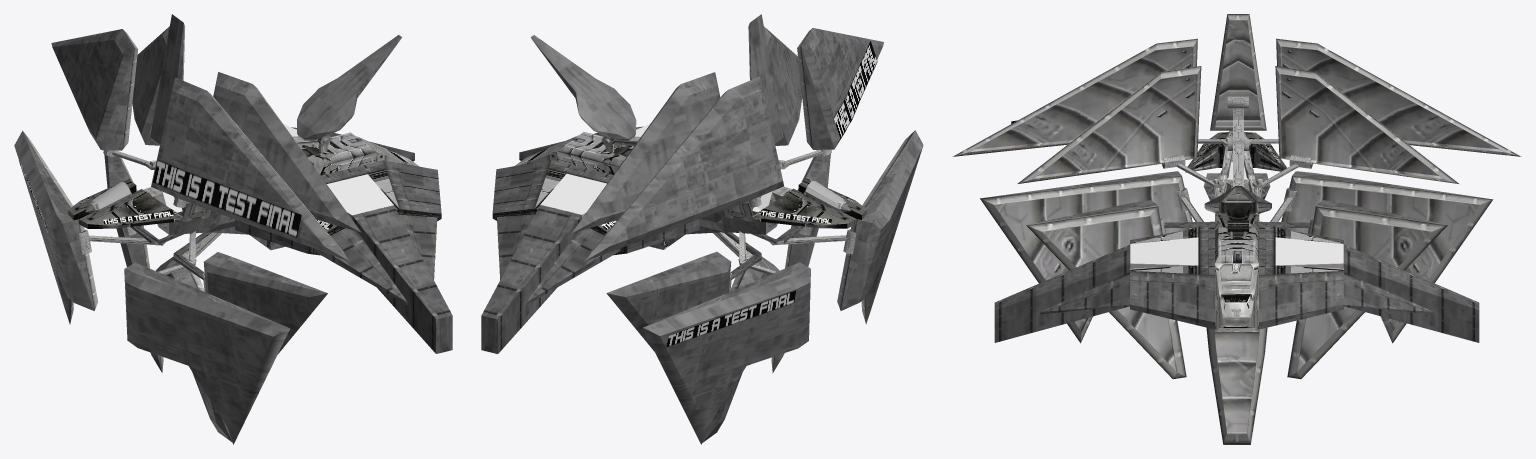
File: OriginalPS.obj
The picture shows the model from 3 angles, left to right: view 1: azimuth 30°, elevation 25°; view 2: azimuth 150°, elevation 25°; view 3: azimuth 270°, elevation 25°; orthographic projection. The views are drawn at different scales.
Visible parts, largest first — view 1: SPW330, WING_A_BOT_R0, WING_A_TOP_L0, WING_A_TOP_R0, SPH330, WING_TOP_LEFT0, WING_A_BOT_L0, WING_BOT_LEFT0, TOP_MID020, NAMEDECAL0.006, WING_TOP_RIGHT0, TOP_MID010 (+7 smaller); view 2: SPW330, WING_A_TOP_R0, WING_A_BOT_L0, SPH330, WING_TOP_RIGHT0, WING_A_BOT_R0, WING_A_TOP_L0, WING_BOT_RIGHT0, TOP_MID020, WING_TOP_LEFT0, TOP_MID010, DECAL020.005 (+8 smaller); view 3: SPW330, WING_TOP_RIGHT0, WING_TOP_LEFT0, WING_A_BOT_R0, WING_A_BOT_L0, WING_A_TOP_L0, WING_BOT_RIGHT0, WING_BOT_LEFT0, WING_A_TOP_R0, SPH330, BOT_MID_PLATE0, TOP_MID010 (+5 smaller).
Part boxes in pixels (bbox=[...]): SPW330: bbox=[235, 127, 452, 353]; WING_A_BOT_R0: bbox=[124, 262, 290, 444]; WING_A_TOP_L0: bbox=[151, 77, 350, 261]; WING_A_TOP_R0: bbox=[51, 29, 137, 156]; SPH330: bbox=[68, 132, 419, 250]; WING_TOP_LEFT0: bbox=[213, 72, 361, 232]; WING_A_BOT_L0: bbox=[14, 130, 97, 324]; WING_BOT_LEFT0: bbox=[202, 252, 327, 412]; TOP_MID020: bbox=[297, 35, 401, 140]; NAMEDECAL0.006: bbox=[153, 160, 301, 237]; WING_TOP_RIGHT0: bbox=[132, 26, 169, 145]; TOP_MID010: bbox=[150, 14, 185, 144]; SPW330: bbox=[481, 126, 699, 353]; WING_A_TOP_R0: bbox=[584, 76, 783, 261]; WING_A_BOT_L0: bbox=[643, 262, 810, 444]; SPH330: bbox=[515, 132, 866, 249]; WING_TOP_RIGHT0: bbox=[571, 72, 720, 233]; WING_A_BOT_R0: bbox=[837, 130, 923, 324]; WING_A_TOP_L0: bbox=[797, 28, 883, 155]; WING_BOT_RIGHT0: bbox=[606, 251, 732, 413]; TOP_MID020: bbox=[530, 35, 636, 141]; WING_TOP_LEFT0: bbox=[764, 26, 802, 145]; TOP_MID010: bbox=[748, 14, 783, 144]; DECAL020.005: bbox=[540, 173, 606, 214]; SPW330: bbox=[994, 223, 1479, 342]; WING_TOP_RIGHT0: bbox=[1275, 66, 1459, 184]; WING_TOP_LEFT0: bbox=[1017, 66, 1201, 183]; WING_A_BOT_R0: bbox=[980, 171, 1192, 343]; WING_A_BOT_L0: bbox=[1281, 171, 1493, 343]; WING_A_TOP_L0: bbox=[952, 38, 1197, 156]; WING_BOT_RIGHT0: bbox=[1287, 200, 1447, 379]; WING_BOT_LEFT0: bbox=[1026, 200, 1186, 379]; WING_A_TOP_R0: bbox=[1276, 38, 1521, 156]; SPH330: bbox=[1185, 132, 1286, 331]; BOT_MID_PLATE0: bbox=[1206, 327, 1267, 444]; TOP_MID010: bbox=[1210, 14, 1266, 139].
Size of the model in its own units: 90.34 by 106 by 134.
33 materials, 33 textured.
